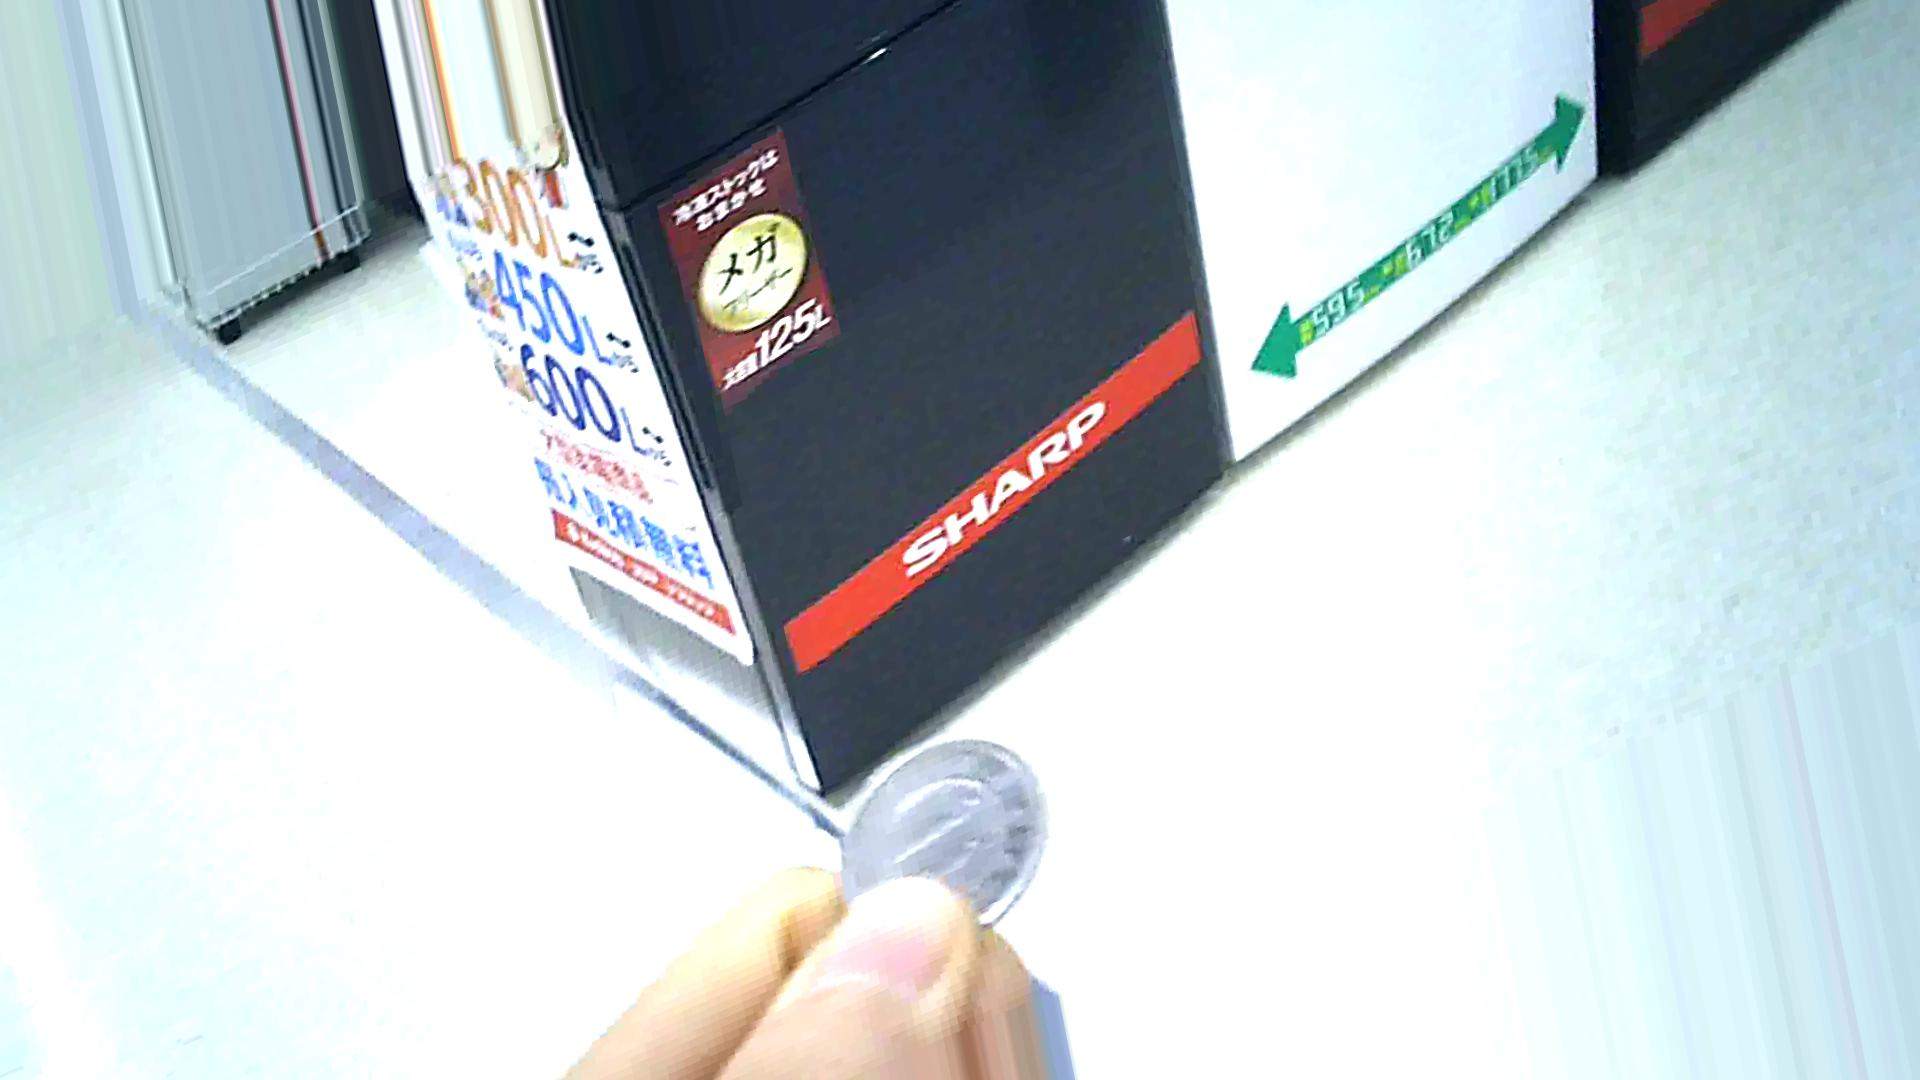1 Yen: (828, 728, 1043, 952)
